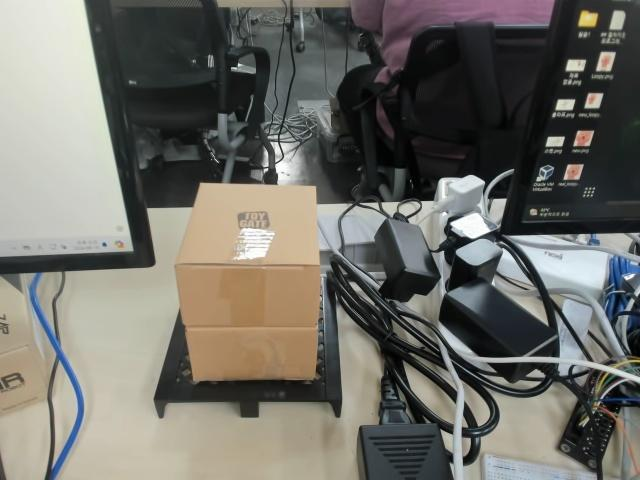box: (153, 183, 345, 421)
